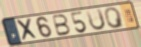5: (70, 10, 88, 34)
6: (36, 16, 54, 40)
B: (51, 14, 72, 37)
Q: (103, 6, 126, 30)
U: (84, 7, 107, 32)
X: (15, 17, 40, 42)
